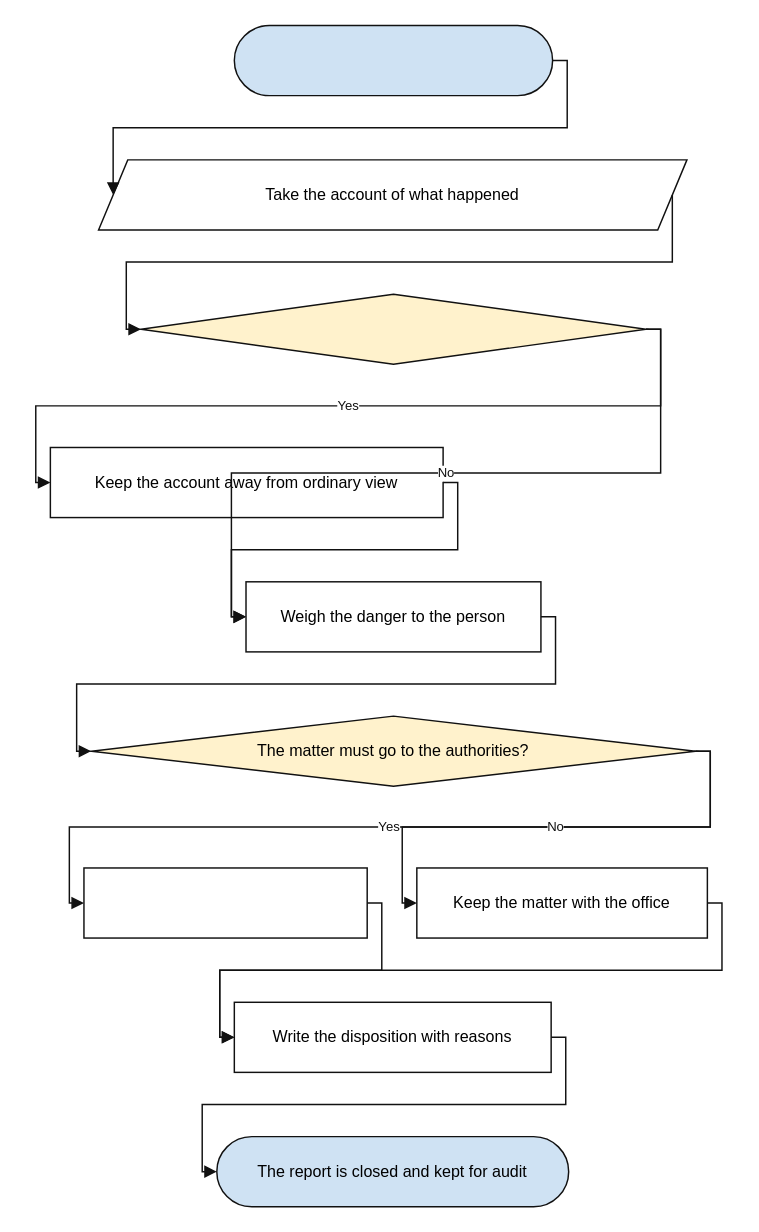
The diagram is 759 pixels wide and 1232 high, and some of its shapes have lost their labels. Here are the shapes that lost their labels. From the top down, the centre of each, then its label:
[393,60]: A report of harm or neglect arrives
[392,328]: Names or identities are at risk?
[224,902]: Hand it to the proper authority
